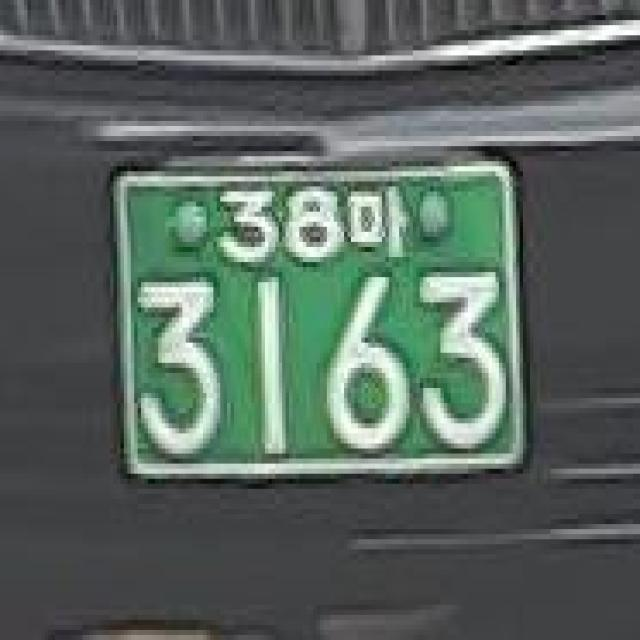illegal_plate: (96, 133, 545, 514)
